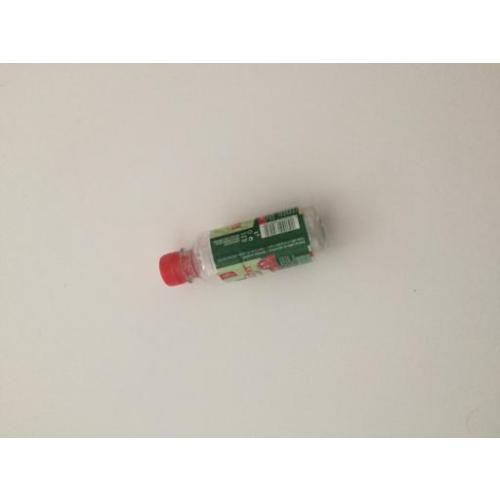plastic: (161, 199, 330, 297)
